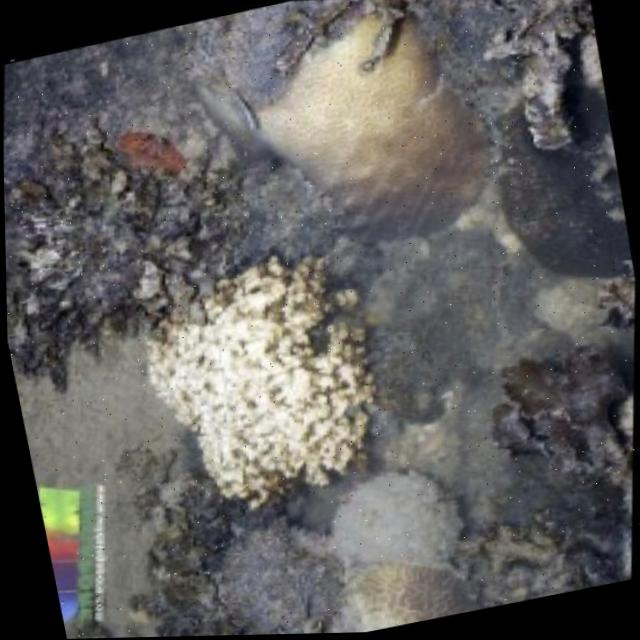Bleached Coral: (128, 243, 391, 523)
